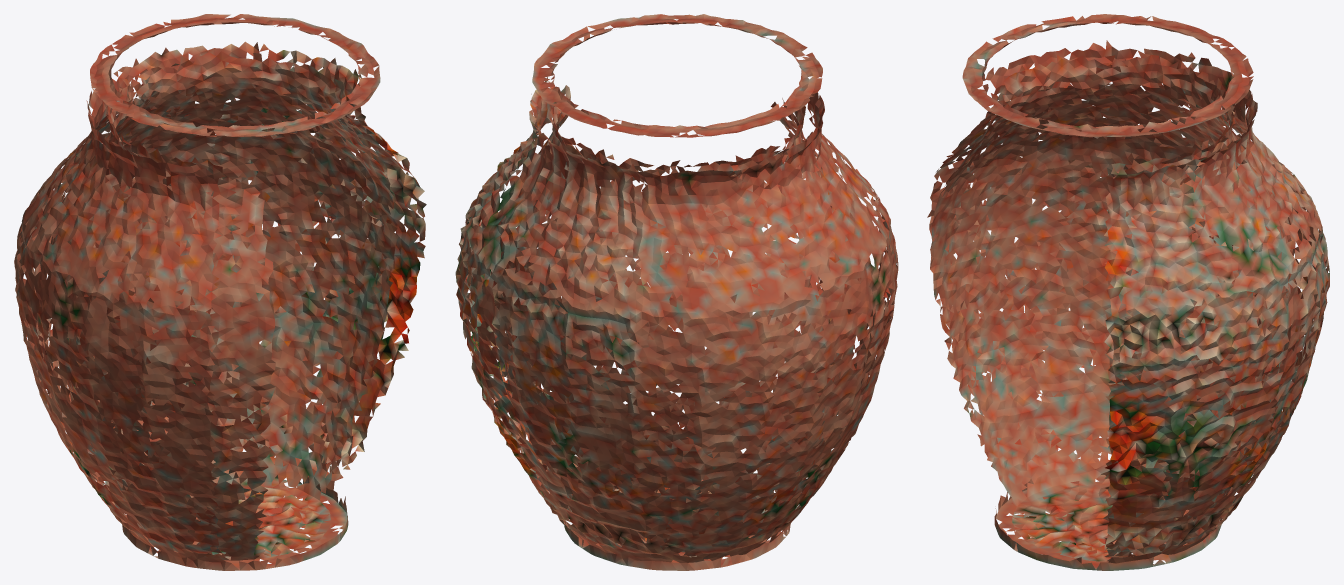
Rendered from vase2_final900.obj.
The picture shows the model from 3 angles, left to right: view 1: azimuth 30°, elevation 25°; view 2: azimuth 150°, elevation 25°; view 3: azimuth 270°, elevation 25°; orthographic projection.
Bounding box in the file's own units: 1.51 × 1.69 × 1.37.
